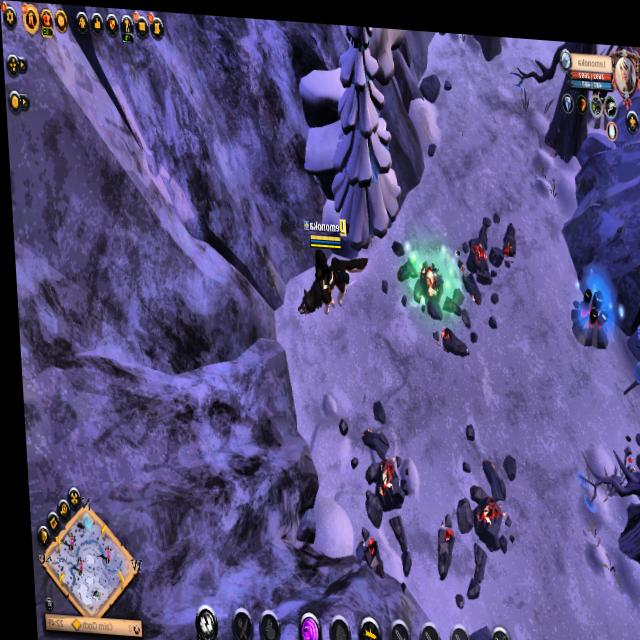ore tier 5: (564, 273, 609, 345)
